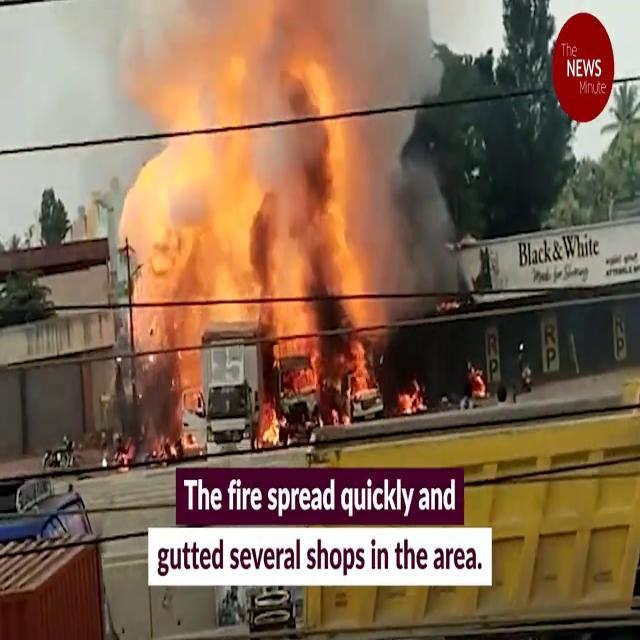Fire: (135, 0, 371, 439), (256, 398, 290, 450)
Smoke: (350, 0, 468, 316)
